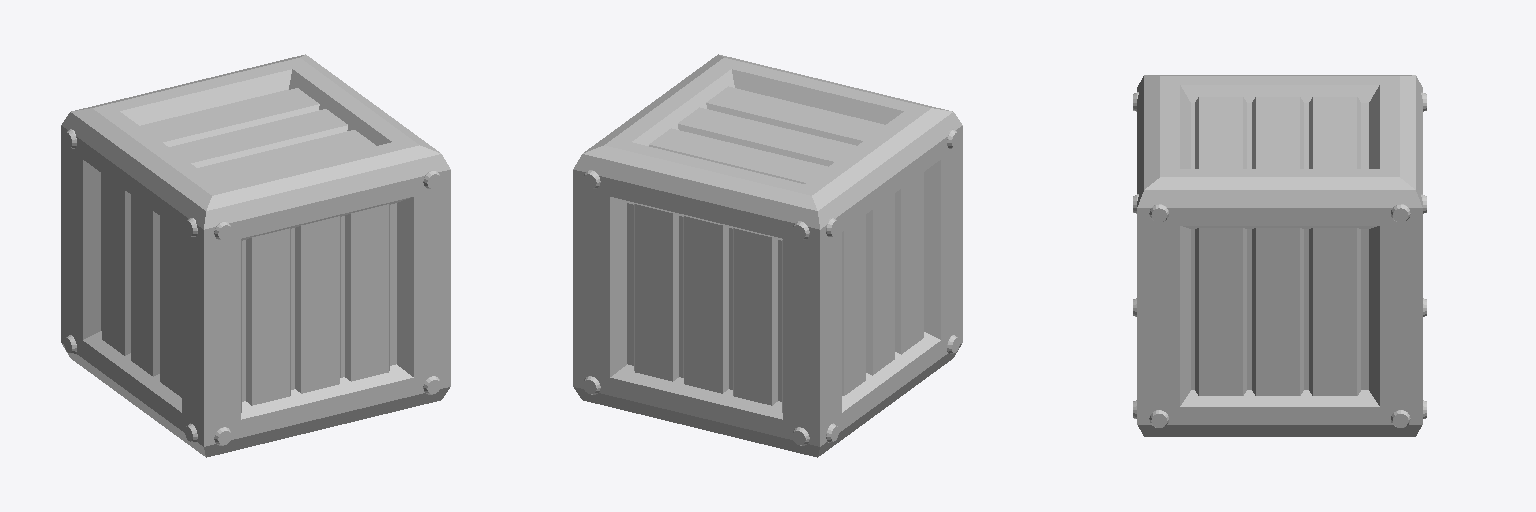
File: Wooden_Box.obj
3 renders of one model, left to right at view 1: azimuth 30°, elevation 25°; view 2: azimuth 150°, elevation 25°; view 3: azimuth 270°, elevation 25°, orthographic.
Parts seen in each view (by area): view 1: Wooden_Box; view 2: Wooden_Box; view 3: Wooden_Box.
Part boxes in pixels (x1,y1,x2,y2): Wooden_Box: (61,54,450,457); Wooden_Box: (573,54,962,457); Wooden_Box: (1133,75,1426,436).
Bounding box in the file's own units: 2.06 × 2 × 2.06.